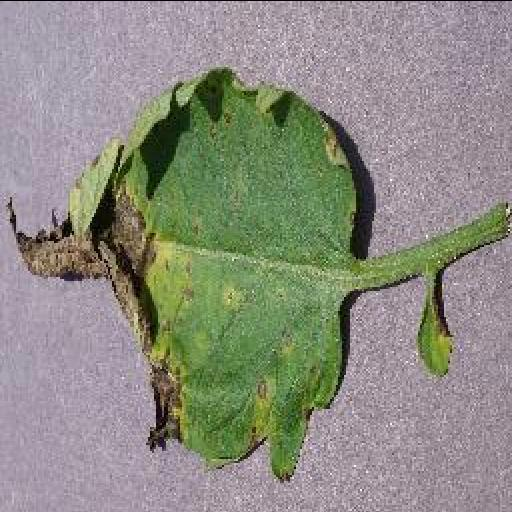disease_tomato: (6, 65, 358, 481)
